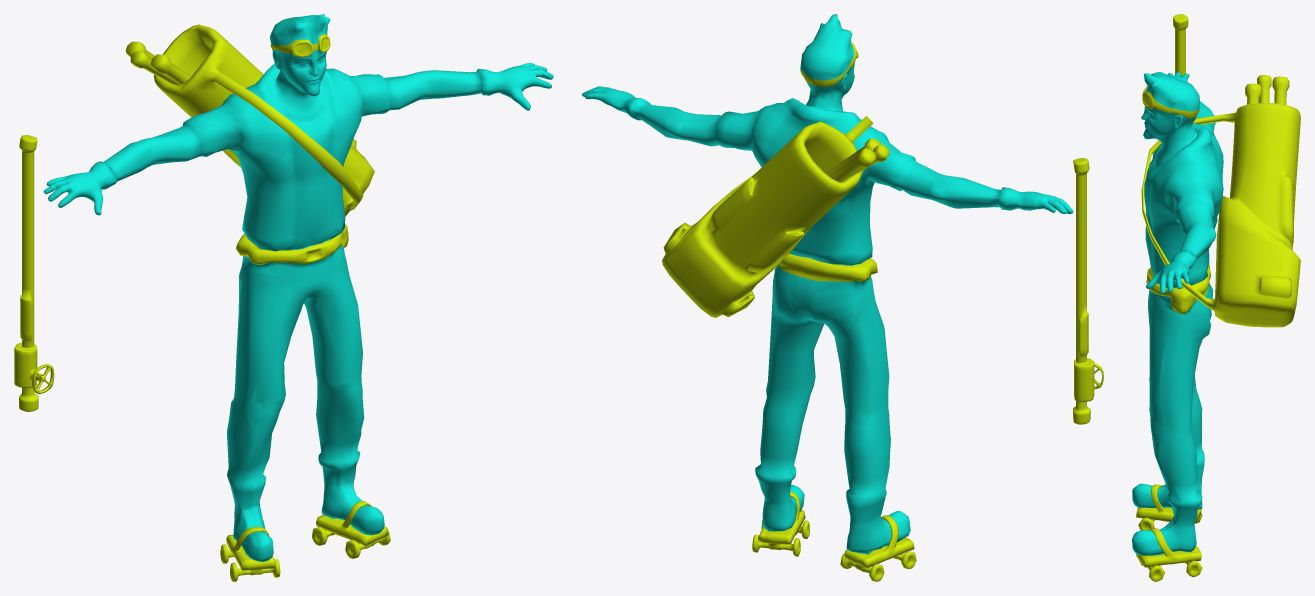
Rendered from Jake_Tpose.fbx.
3 views of the same model, side by side, from view 1: azimuth 30°, elevation 25°; view 2: azimuth 150°, elevation 25°; view 3: azimuth 270°, elevation 25° (orthographic). The views are drawn at different scales.
Visible parts, largest first — view 1: Jake_retopo; view 2: Jake_retopo; view 3: Jake_retopo.
Part boxes in pixels (bbox=[...]): Jake_retopo: bbox=[14, 14, 553, 581]; Jake_retopo: bbox=[582, 14, 1103, 581]; Jake_retopo: bbox=[1132, 14, 1300, 581].
Size of the model in its own units: 189 by 187 by 59.67.
